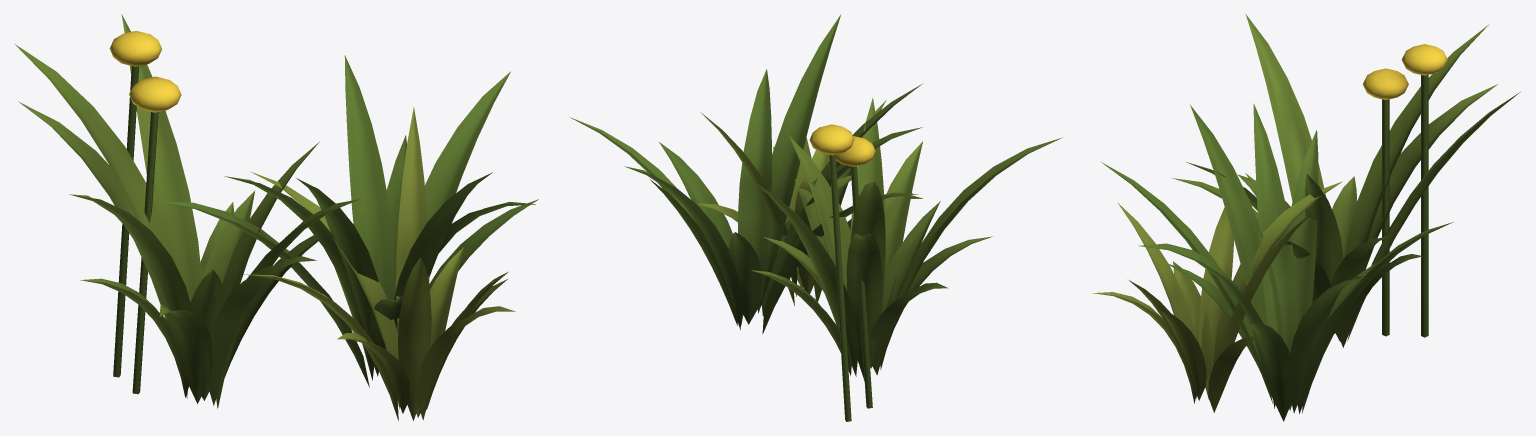
The model's file is yd_weeds__225.glb.
The picture shows the model from 3 angles, left to right: view 1: azimuth 30°, elevation 25°; view 2: azimuth 150°, elevation 25°; view 3: azimuth 270°, elevation 25°; orthographic projection. The views are drawn at different scales.
Parts seen in each view (by area): view 1: prop_yd_weeds; view 2: prop_yd_weeds; view 3: prop_yd_weeds.
Boxes of the visible parts, left/top/right/bottom form: prop_yd_weeds: left=15, top=14, right=538, bottom=420; prop_yd_weeds: left=570, top=14, right=1062, bottom=421; prop_yd_weeds: left=1092, top=14, right=1520, bottom=421.
Bounding box in the file's own units: 0.5365 × 0.339 × 0.4444.
